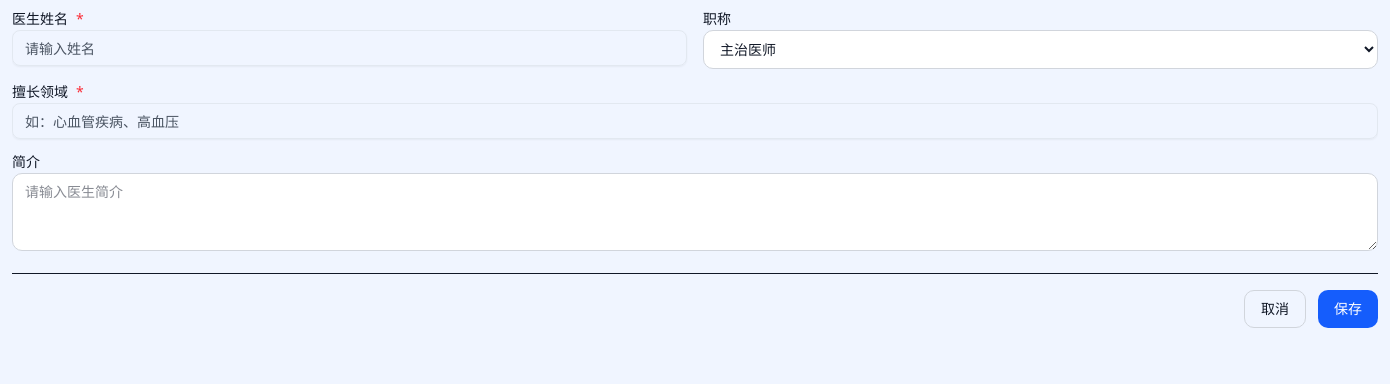
Test: DoctorForm › shows validation errors for empty required fields on submit
The width and height of the screenshot is (1390, 384).
Step 1. Click the button "保存" → (1348, 309), box [1318,290,1378,328]
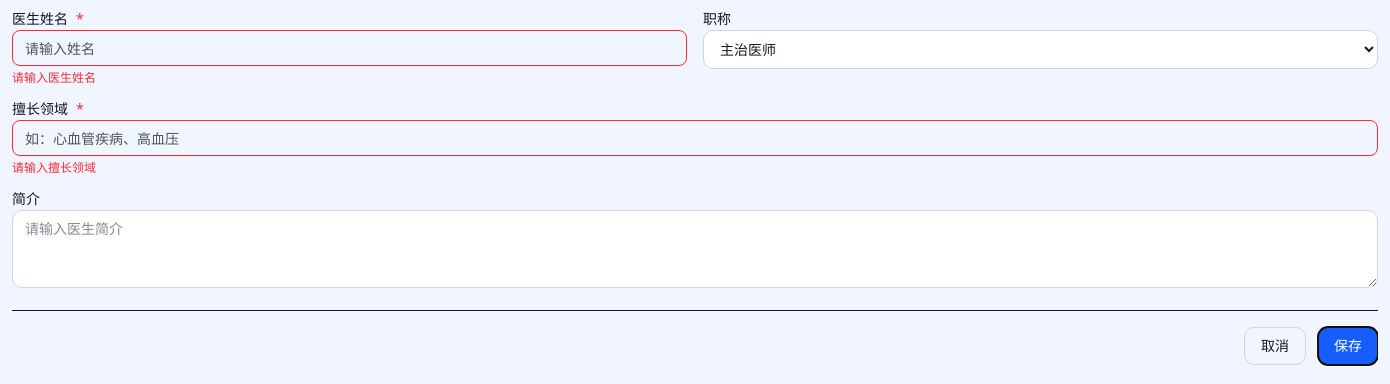
Expected: the text "请输入医生姓名" is shown, [12,69,96,86]
Expected: the text "请输入擅长领域" is shown, [12,159,96,176]
